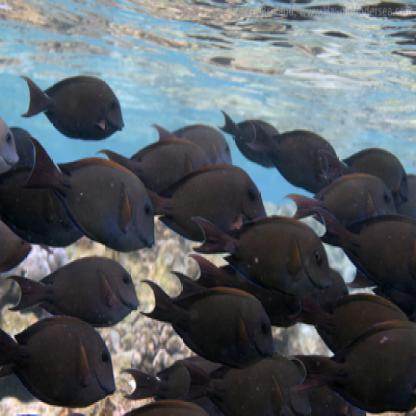surgeon: (27, 135, 159, 253), (188, 205, 339, 299), (136, 277, 280, 373), (133, 155, 277, 244), (291, 313, 416, 409), (1, 313, 122, 409), (283, 171, 408, 252), (19, 62, 133, 143), (7, 255, 142, 322), (251, 115, 350, 193), (221, 107, 293, 172)
